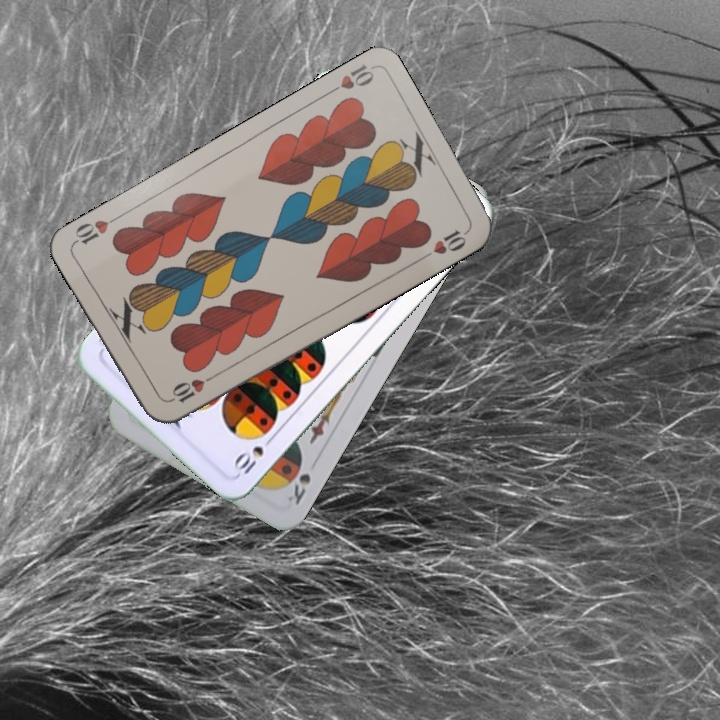H10: (321, 60, 377, 99), (164, 371, 218, 406)
S10: (229, 431, 278, 478)
SK: (283, 469, 314, 508)
